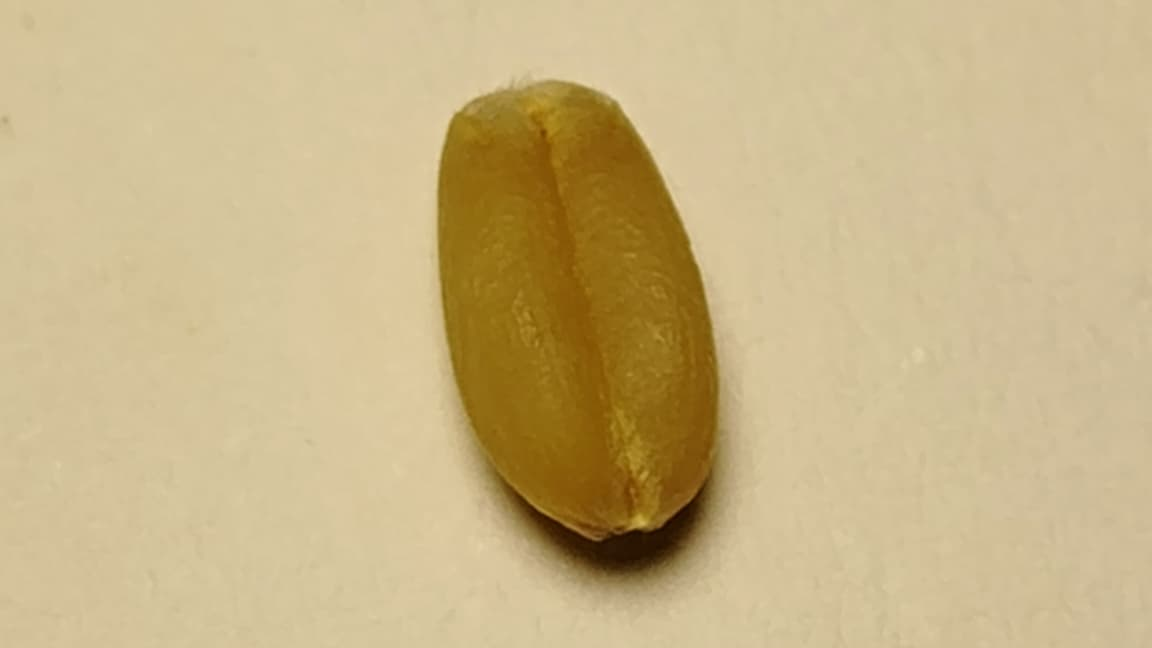healthy: (438, 81, 720, 537)
